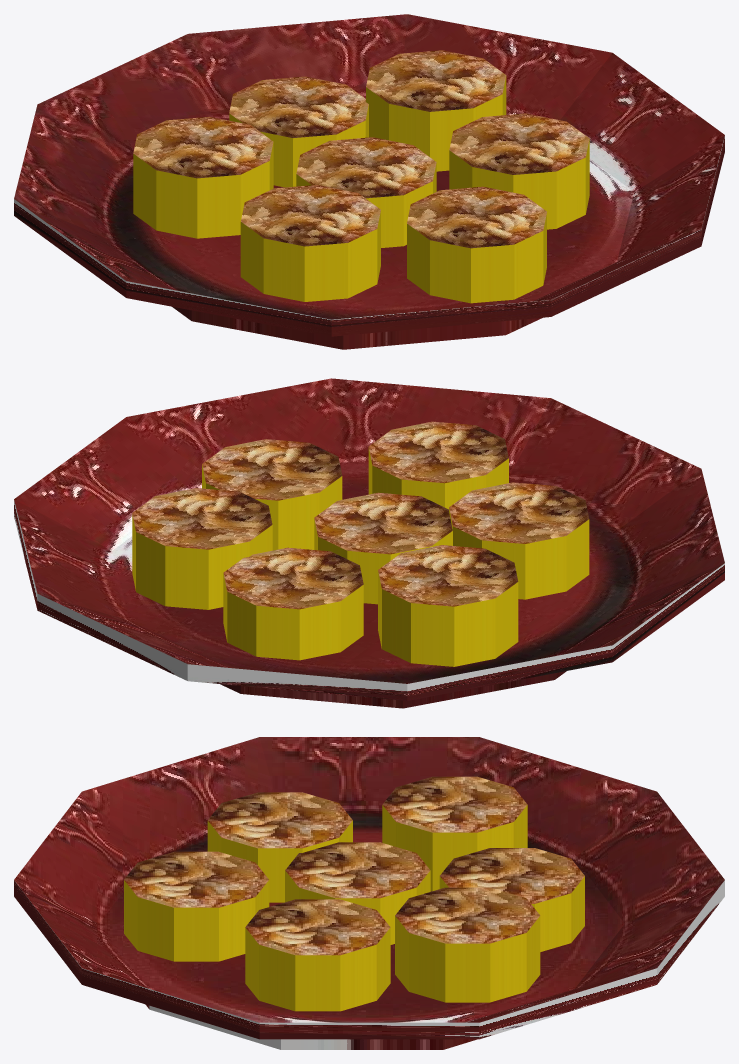
The model's file is laphing.glb.
3 views of the same model, one above another, from view 1: azimuth 30°, elevation 25°; view 2: azimuth 150°, elevation 25°; view 3: azimuth 270°, elevation 25° (orthographic). The views are drawn at different scales.
Parts seen in each view (by area): view 1: Cylinder, Cylinder.001, Cylinder.002, Cylinder.003, Cylinder.005, Cylinder.006, Cylinder.007, Cylinder.004; view 2: Cylinder, Cylinder.003, Cylinder.007, Cylinder.006, Cylinder.001, Cylinder.005, Cylinder.002, Cylinder.004; view 3: Cylinder, Cylinder.006, Cylinder.005, Cylinder.002, Cylinder.003, Cylinder.001, Cylinder.004, Cylinder.007.
Boxes of the visible parts, box(x1,y1,x2,y2) form: Cylinder: box(14, 14, 724, 349); Cylinder.001: box(240, 185, 380, 301); Cylinder.002: box(407, 186, 546, 303); Cylinder.003: box(133, 116, 273, 238); Cylinder.005: box(449, 113, 589, 229); Cylinder.006: box(366, 50, 506, 171); Cylinder.007: box(229, 76, 368, 187); Cylinder.004: box(296, 137, 436, 247); Cylinder: box(14, 378, 724, 708); Cylinder.003: box(378, 545, 518, 666); Cylinder.007: box(223, 547, 363, 660); Cylinder.006: box(132, 488, 272, 609); Cylinder.001: box(449, 482, 589, 599); Cylinder.005: box(202, 439, 342, 550); Cylinder.002: box(368, 421, 508, 509); Cylinder.004: box(314, 492, 452, 604); Cylinder: box(14, 737, 724, 1049); Cylinder.006: box(395, 887, 540, 1002); Cylinder.005: box(245, 899, 390, 1011); Cylinder.002: box(124, 851, 269, 961); Cylinder.003: box(382, 776, 527, 891); Cylinder.001: box(207, 792, 352, 902); Cylinder.004: box(285, 842, 430, 944); Cylinder.007: box(439, 848, 584, 951).
Size of the model in its own units: 2.77 by 0.3867 by 2.92.
Materials: 3 (3 with a texture image).
